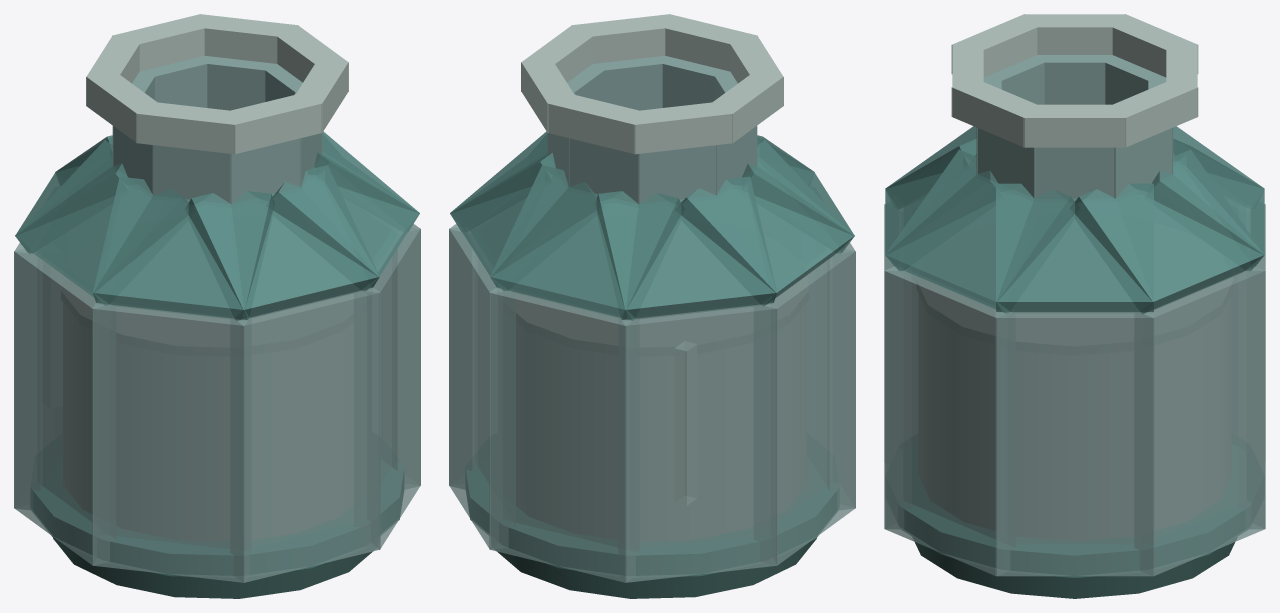
Rendered from CMU3DBottleFill4StudyCloud.glb.
3 views of the same model, side by side, from view 1: azimuth 30°, elevation 25°; view 2: azimuth 150°, elevation 25°; view 3: azimuth 270°, elevation 25° (orthographic).
Parts seen in each view (by area): view 1: static liquid volume level 4, hollow bottle wall 06, hollow bottle wall 07, hollow bottle wall 05, inward glass shoulder 06, inward glass shoulder 07, hollow bottle wall 08, inward glass shoulder 05, bottom glass welt, inward glass shoulder 08, flat liquid meniscus, hollow bottle wall 01 (+20 smaller); view 2: hollow bottle wall 04, static liquid volume level 4, hollow bottle wall 03, hollow bottle wall 05, inward glass shoulder 04, inward glass shoulder 03, hollow bottle wall 02, inward glass shoulder 05, bottom glass welt, inward glass shoulder 02, hollow bottle wall 06, hollow bottle wall 01 (+21 smaller); view 3: static liquid volume level 4, hollow bottle wall 01, hollow bottle wall 02, hollow bottle wall 08, inward glass shoulder 01, inward glass shoulder 02, inward glass shoulder 08, bottom glass welt, flat liquid meniscus, inward glass shoulder 03, inward glass shoulder 07, hollow bottle wall 03 (+20 smaller).
Part boxes in pixels (x1,y1,x2,y2): static liquid volume level 4: (63, 303, 353, 540); hollow bottle wall 06: (92, 303, 251, 582); hollow bottle wall 07: (230, 287, 380, 582); hollow bottle wall 05: (14, 248, 115, 565); inward glass shoulder 06: (92, 176, 274, 320); inward glass shoulder 07: (185, 165, 379, 321); hollow bottle wall 08: (354, 228, 420, 549); inward glass shoulder 05: (15, 140, 194, 306); bottom glass welt: (31, 456, 403, 577); inward glass shoulder 08: (266, 131, 419, 292); flat liquid meniscus: (61, 276, 353, 356); hollow bottle wall 01: (374, 224, 420, 489); hollow bottle wall 04: (618, 302, 777, 582); static liquid volume level 4: (516, 303, 806, 540); hollow bottle wall 03: (489, 287, 639, 582); hollow bottle wall 05: (754, 248, 855, 565); inward glass shoulder 04: (595, 176, 777, 320); inward glass shoulder 03: (490, 165, 684, 321); hollow bottle wall 02: (449, 228, 515, 549); inward glass shoulder 05: (675, 140, 854, 306); bottom glass welt: (466, 456, 838, 577); inward glass shoulder 02: (450, 131, 603, 292); hollow bottle wall 06: (816, 243, 855, 510); hollow bottle wall 01: (449, 224, 495, 489); static liquid volume level 4: (919, 296, 1230, 540); hollow bottle wall 01: (995, 310, 1154, 576); hollow bottle wall 02: (1134, 266, 1265, 576); hollow bottle wall 08: (884, 266, 1015, 576); inward glass shoulder 01: (996, 183, 1153, 312); inward glass shoulder 02: (1070, 149, 1264, 314); inward glass shoulder 08: (885, 149, 1079, 314); bottom glass welt: (898, 444, 1251, 577); flat liquid meniscus: (917, 278, 1232, 354); inward glass shoulder 03: (1147, 126, 1264, 271); inward glass shoulder 07: (885, 126, 1002, 271); hollow bottle wall 03: (1238, 205, 1265, 529).
Bounding box in the file's own units: 0.3387 × 0.453 × 0.3387.
